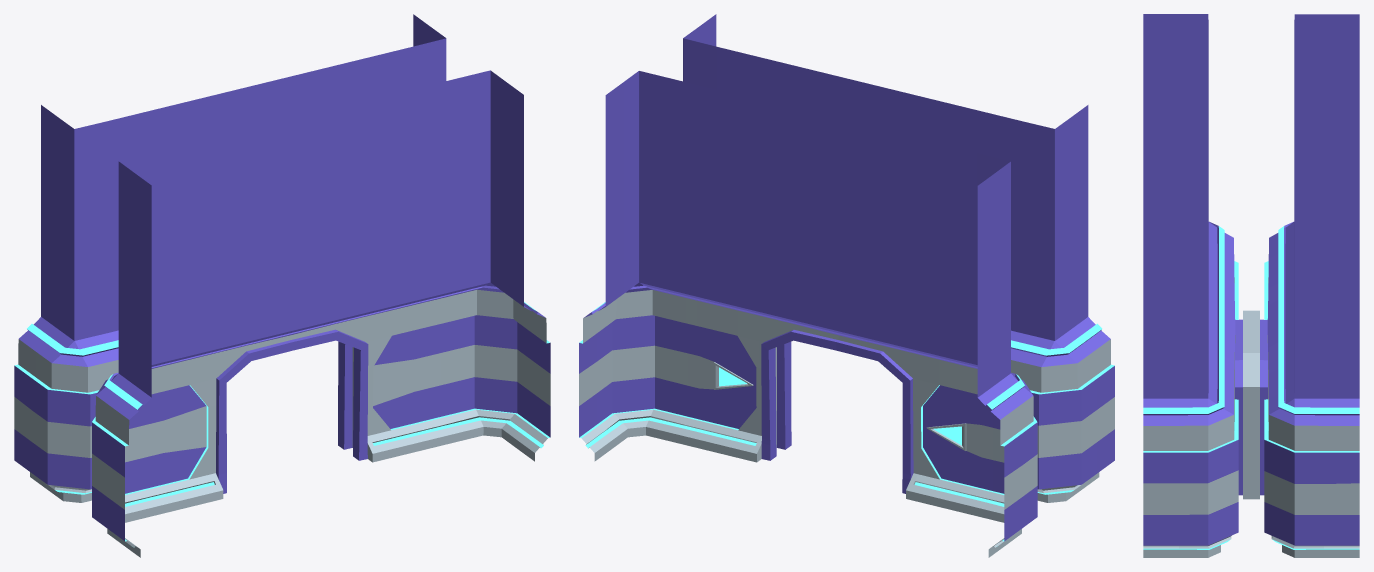
File: DoorFrame_A_Tall.fbx
The picture shows the model from 3 angles, left to right: view 1: azimuth 30°, elevation 25°; view 2: azimuth 150°, elevation 25°; view 3: azimuth 270°, elevation 25°; orthographic projection. The views are drawn at different scales.
Parts seen in each view (by area): view 1: DoorFrame_A_Tall; view 2: DoorFrame_A_Tall; view 3: DoorFrame_A_Tall.
Boxes of the visible parts, x1,y1,x2,y2 form: DoorFrame_A_Tall: (14, 14, 550, 557); DoorFrame_A_Tall: (579, 14, 1114, 557); DoorFrame_A_Tall: (1143, 14, 1359, 557).
Bounding box in the file's own units: 1951 × 1620 × 879.
